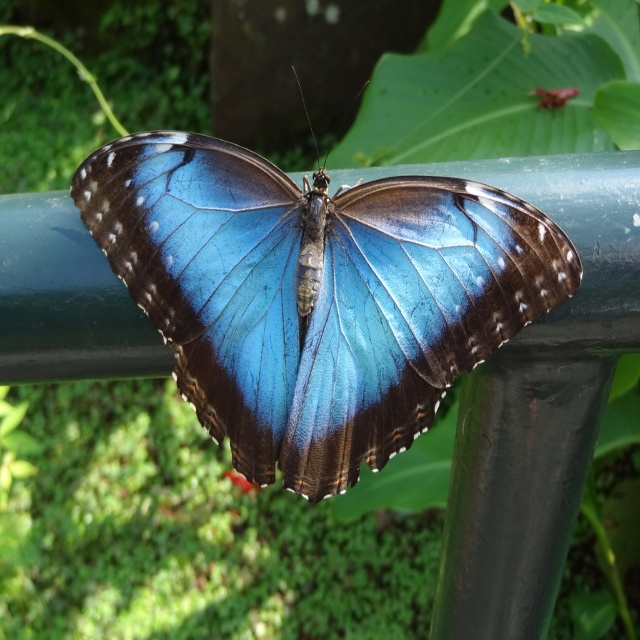Butterfly: (59, 63, 574, 513)
